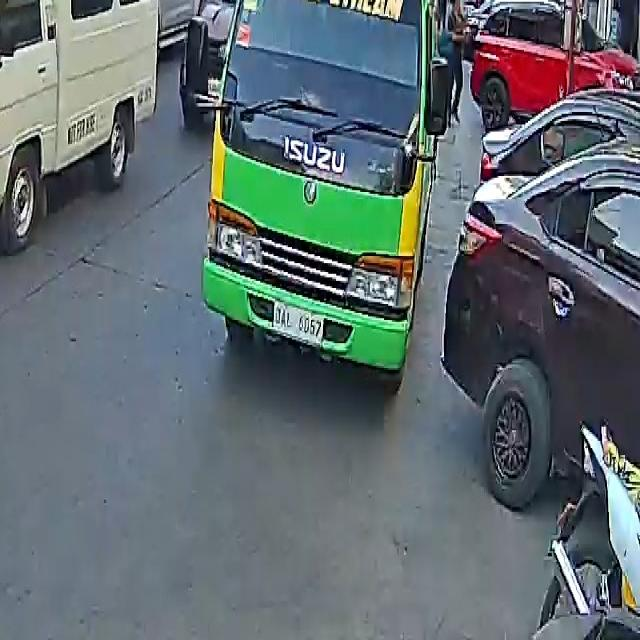car: (443, 90, 640, 519), (470, 0, 639, 135)
